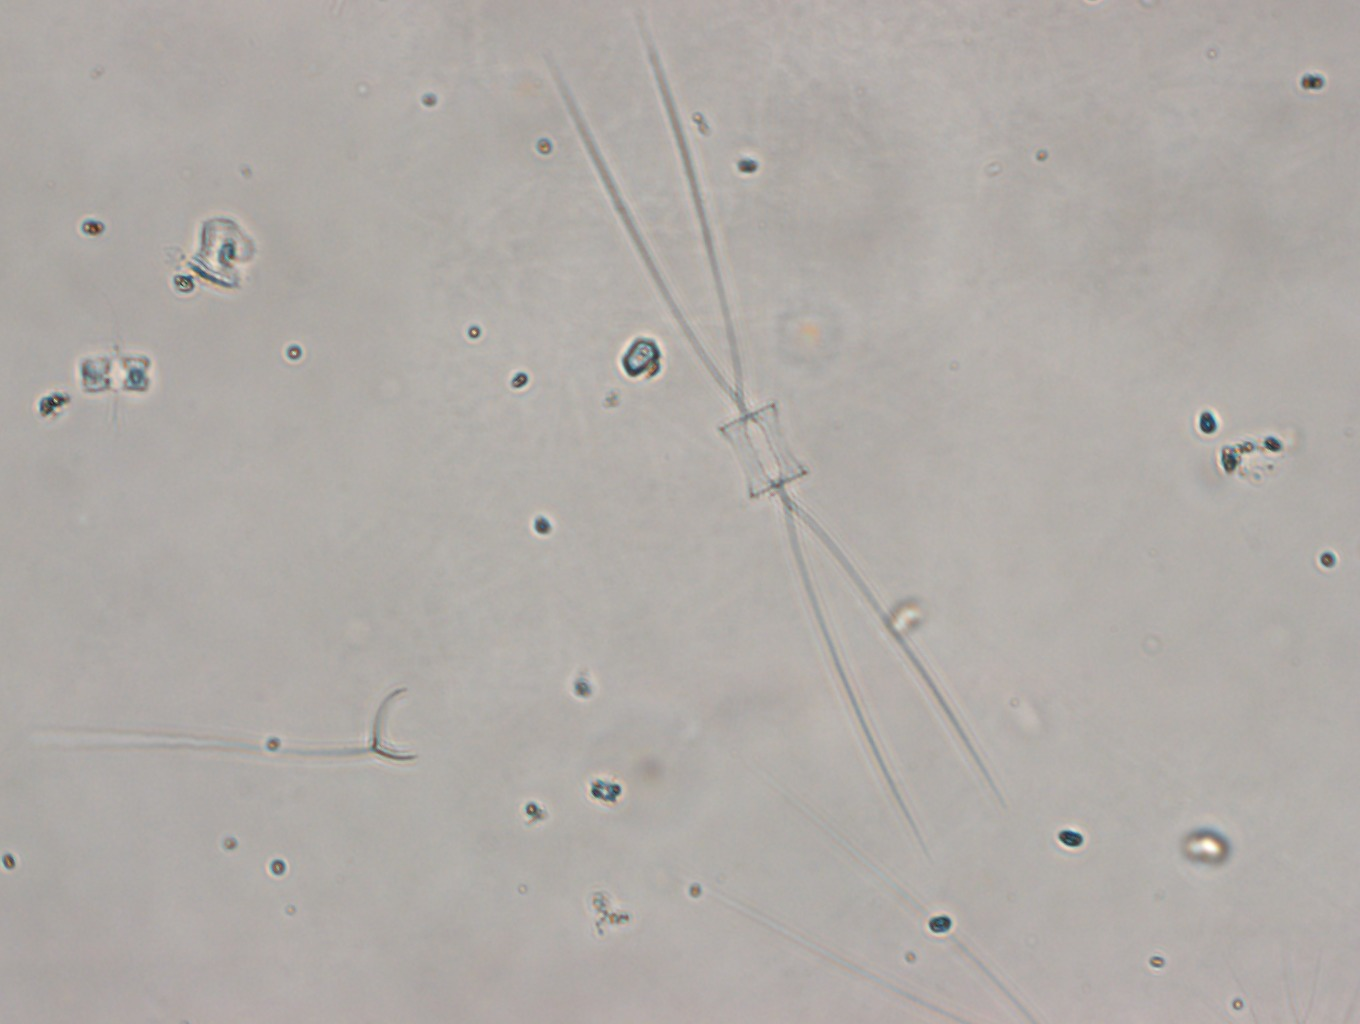chaetoceros: (555, 13, 1000, 859)
